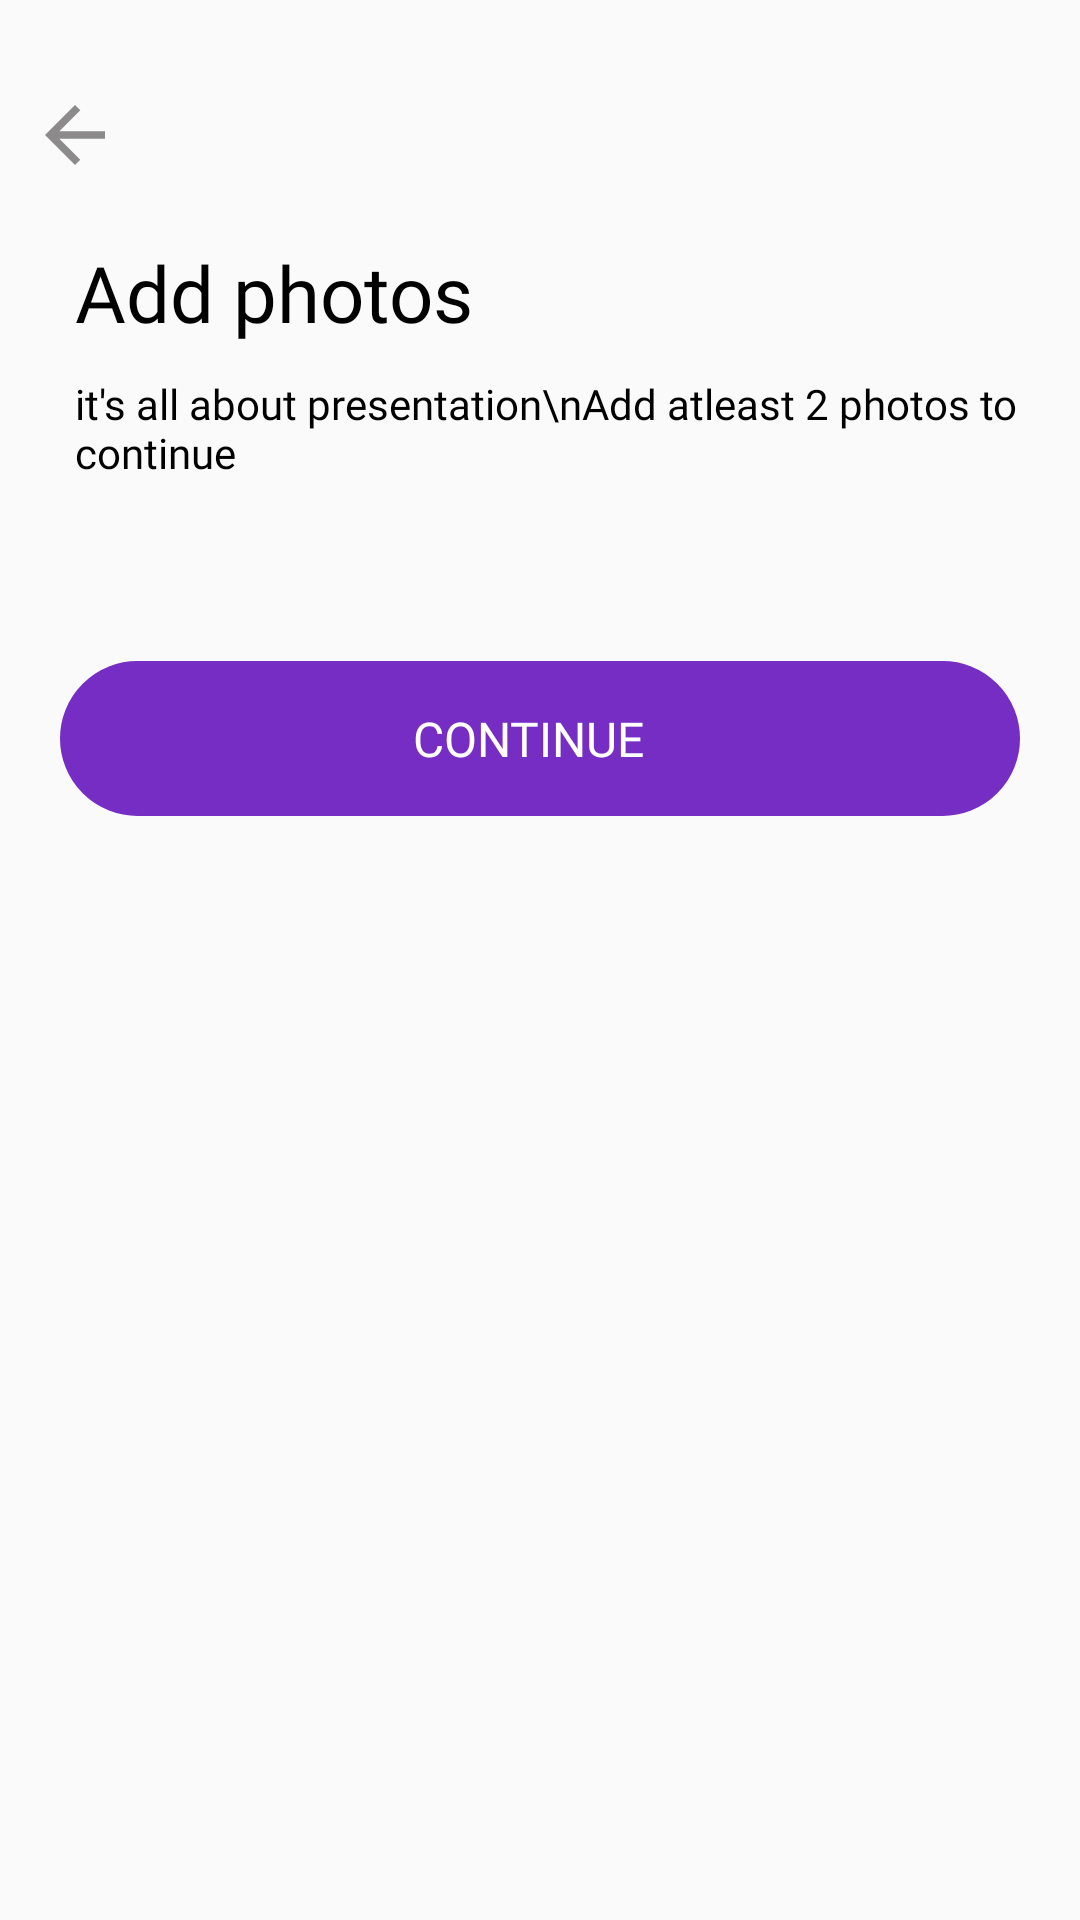

Icons on this 1080w x 1920h Android screen, each with the point to tap as (x,y):
arrow back: (75,135)
